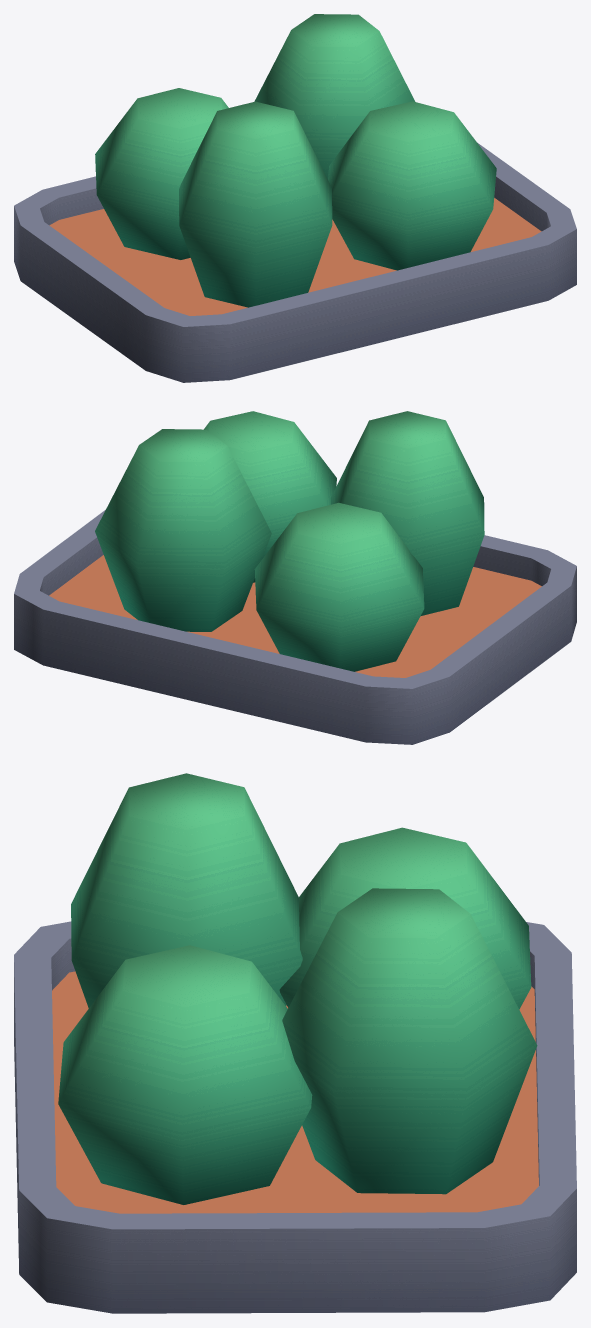
Rendered from planter.186_lev3.glb.
The picture shows the model from 3 angles, top to bottom: view 1: azimuth 30°, elevation 25°; view 2: azimuth 150°, elevation 25°; view 3: azimuth 270°, elevation 25°; orthographic projection. The views are drawn at different scales.
Parts seen in each view (by area): view 1: planter.186_lev3; view 2: planter.186_lev3; view 3: planter.186_lev3.
Boxes of the visible parts, x1,y1,x2,y2 form: planter.186_lev3: (14,14,576,382); planter.186_lev3: (14,411,576,744); planter.186_lev3: (14,773,576,1313).
Bounding box in the file's own units: 1.61 × 0.7084 × 1.21.
Materials: 1 (1 with a texture image).
